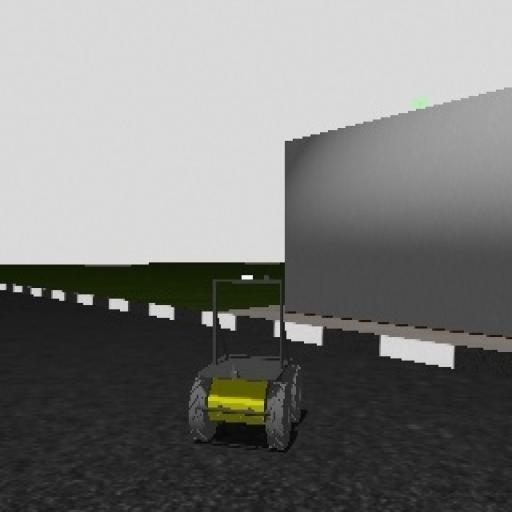huskya200: (172, 267, 322, 460)
